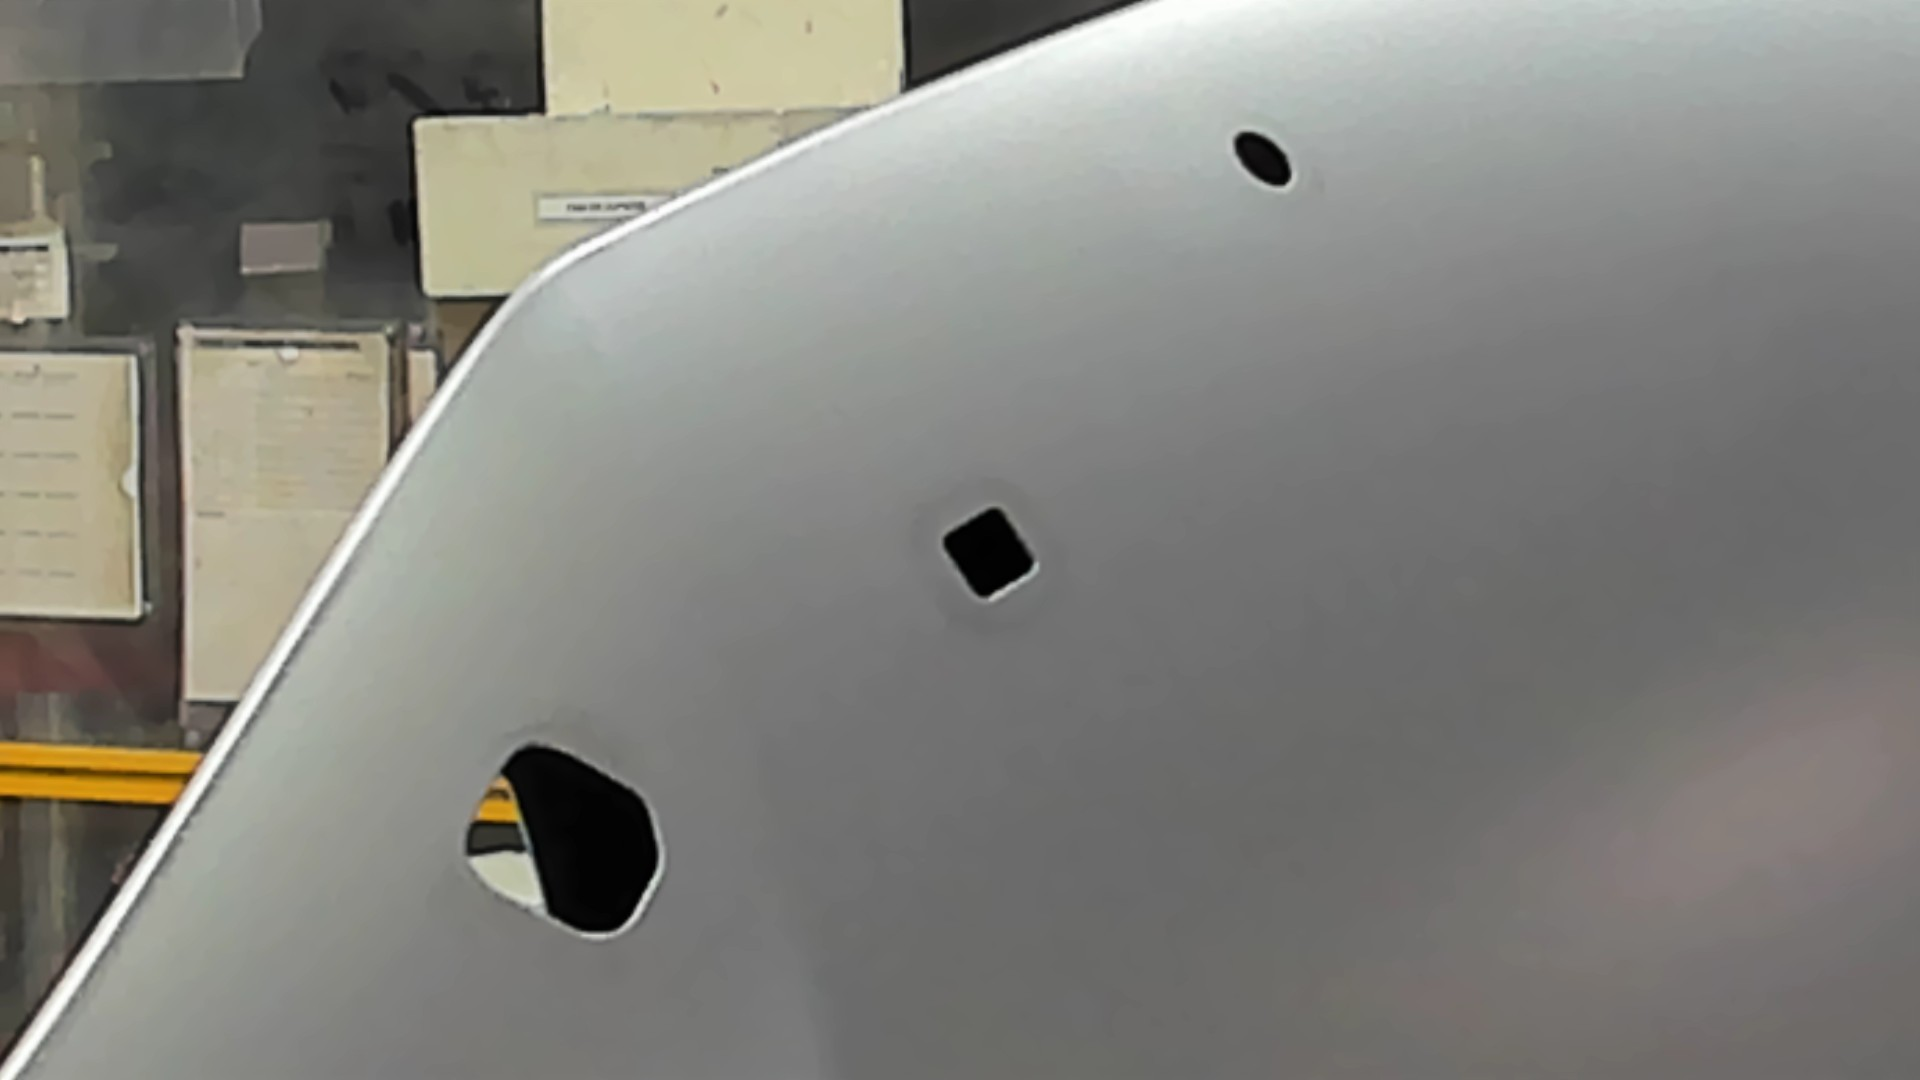chico: (1229, 124, 1298, 190)
grande: (454, 733, 676, 945)
mediano: (934, 496, 1046, 608)
